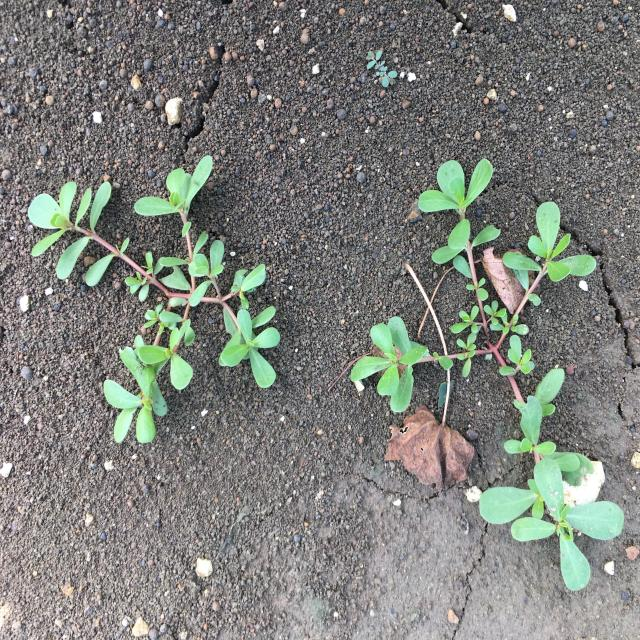Purslane: (350, 158, 625, 591), (28, 155, 280, 443)
